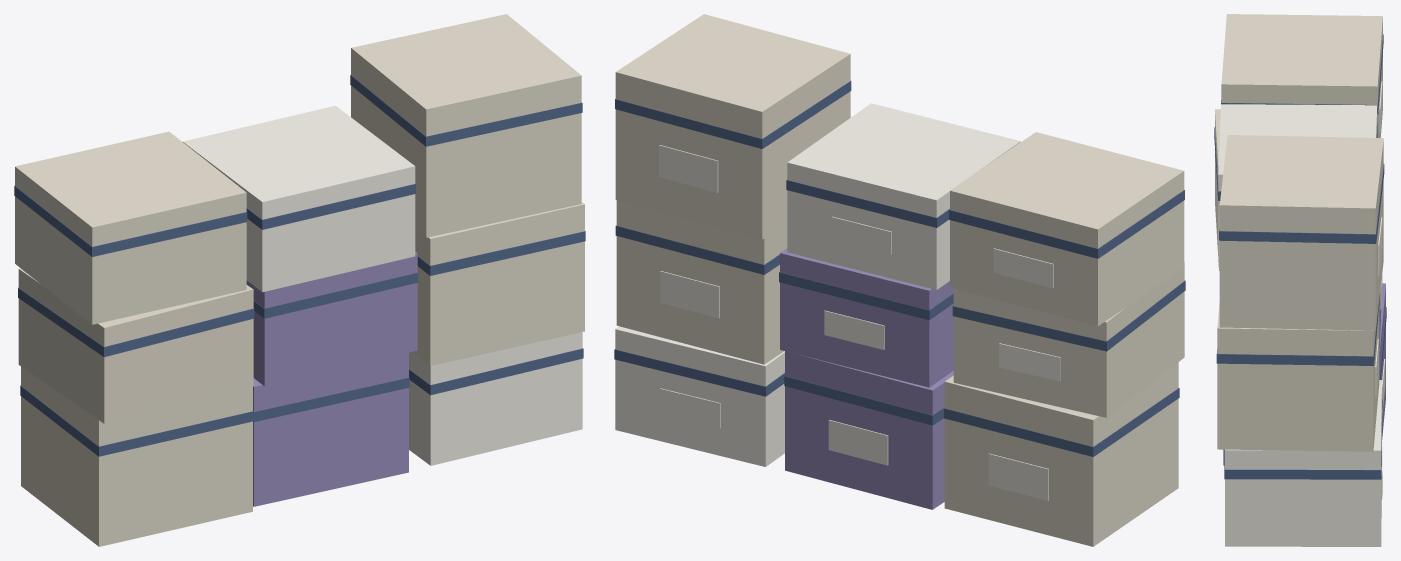
File: box_stack.fbx
3 views of the same model, side by side, from view 1: azimuth 30°, elevation 25°; view 2: azimuth 150°, elevation 25°; view 3: azimuth 270°, elevation 25° (orthographic). The views are drawn at different scales.
Parts seen in each view (by area): view 1: box_stack; view 2: box_stack; view 3: box_stack.
Boxes of the visible parts, x1,y1,x2,y2 form: box_stack: (14, 14, 585, 546); box_stack: (614, 14, 1185, 546); box_stack: (1214, 14, 1386, 546).
Size of the model in its own units: 104 by 71.95 by 33.09.
